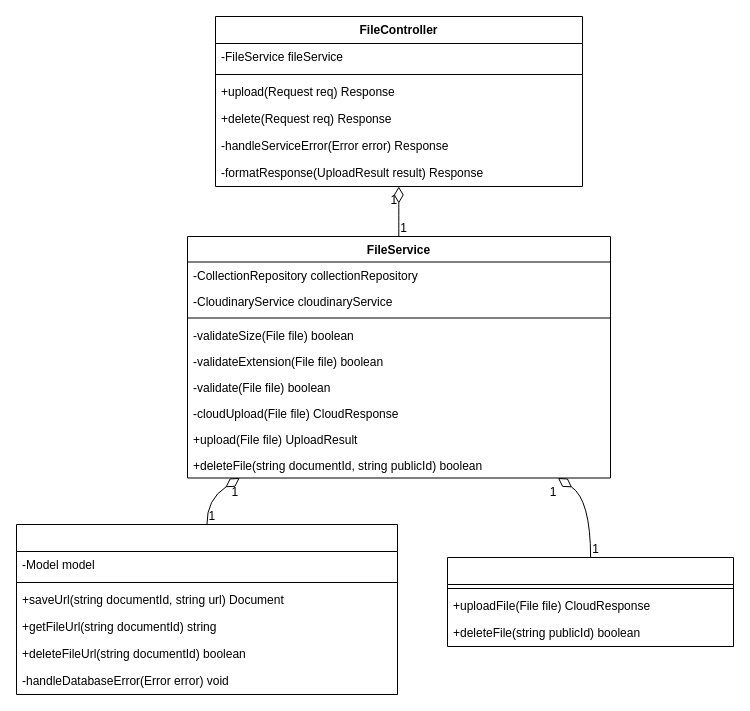
This 750x711 diagram has some shape labels left out. The shapes that lost their labels are listed below. From the top down, each one's box as (x1, y1, x2, y2) in pixels, then its label:
(16, 524, 398, 694): CollectionRepository
(446, 556, 734, 646): CloudinaryService
